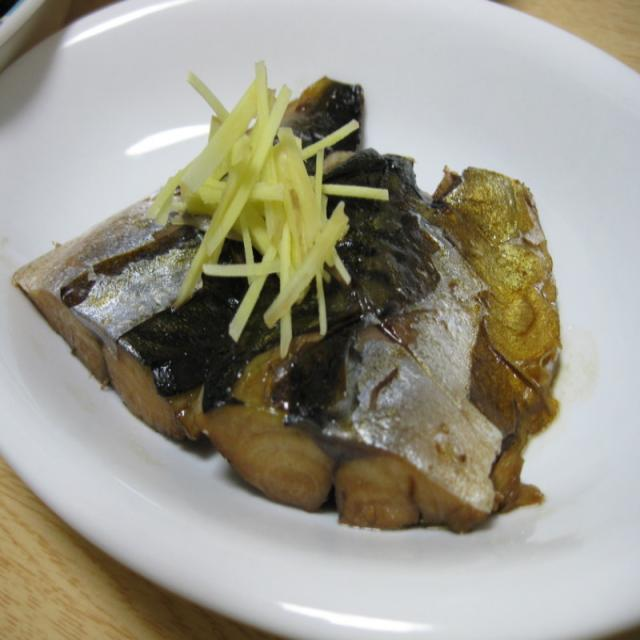熟制海鲜: (8, 56, 586, 538)
